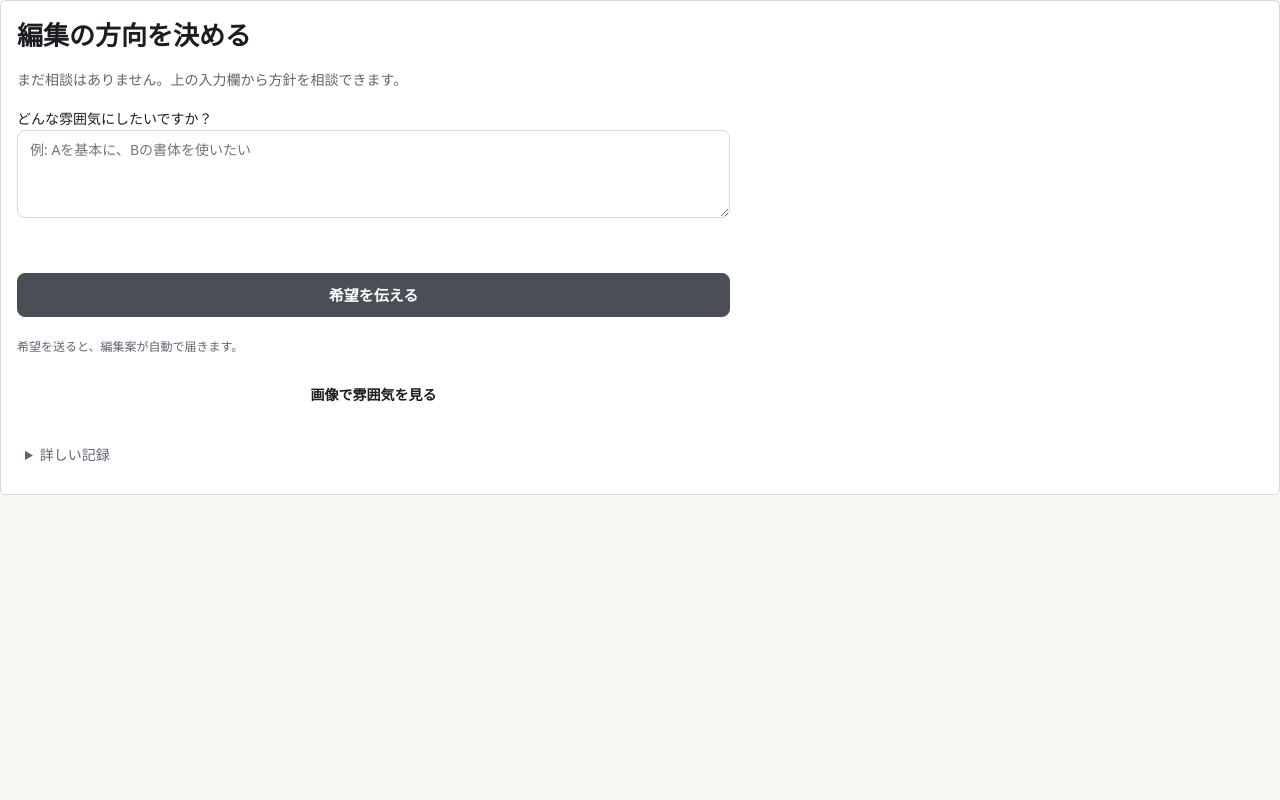
Test case: ConsultationPanel（UX 2.5 slice-1） › consultation-budget-exhaustedは格下げ告知を出し、総称エラーや擬似リトライを出さない
Expected: the text "まだ相談はありません。上の入力欄から方針を相談できます。" is shown, top-left (17, 70), bottom-right (407, 89)
In the text box with test id "consultation-message-input": (373, 174) top-left (17, 130), bottom-right (730, 218), type "冒頭を引きから"
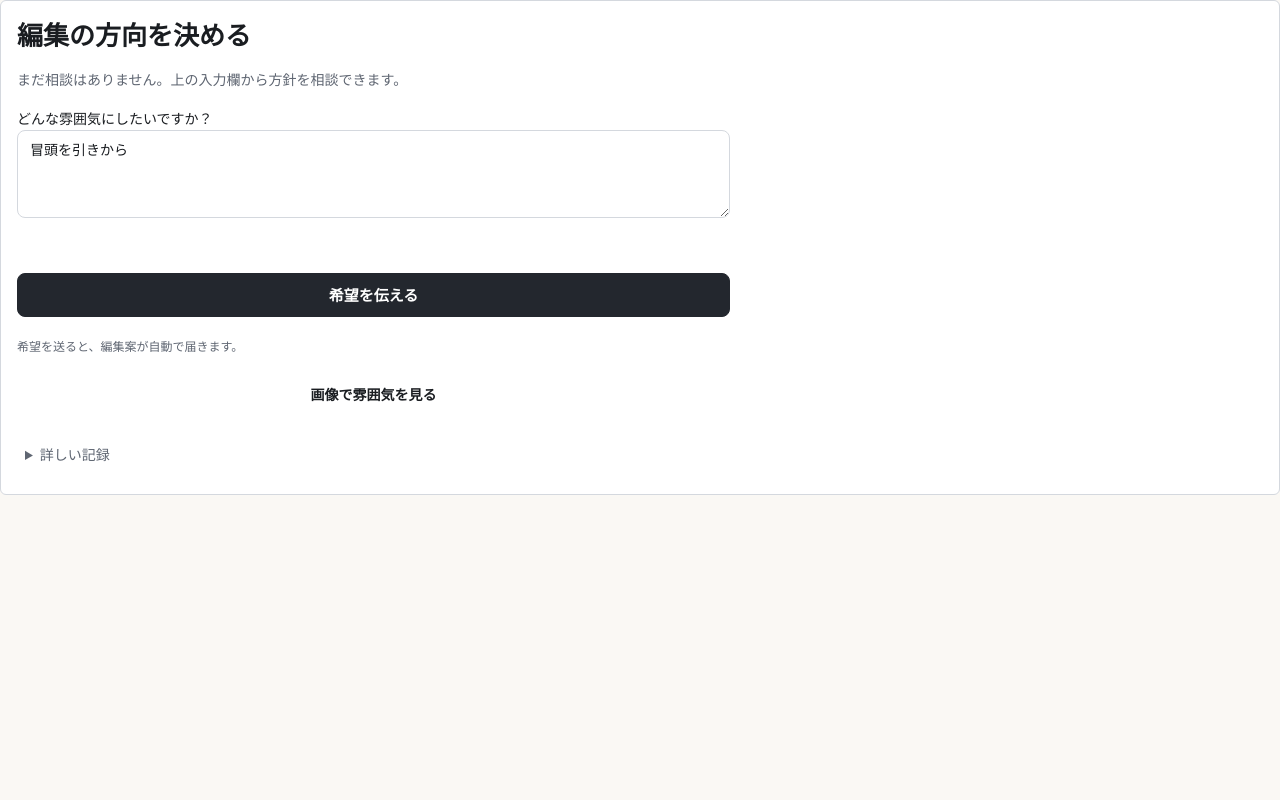
Click the button with test id "consultation-send": (373, 295) top-left (17, 273), bottom-right (730, 317)
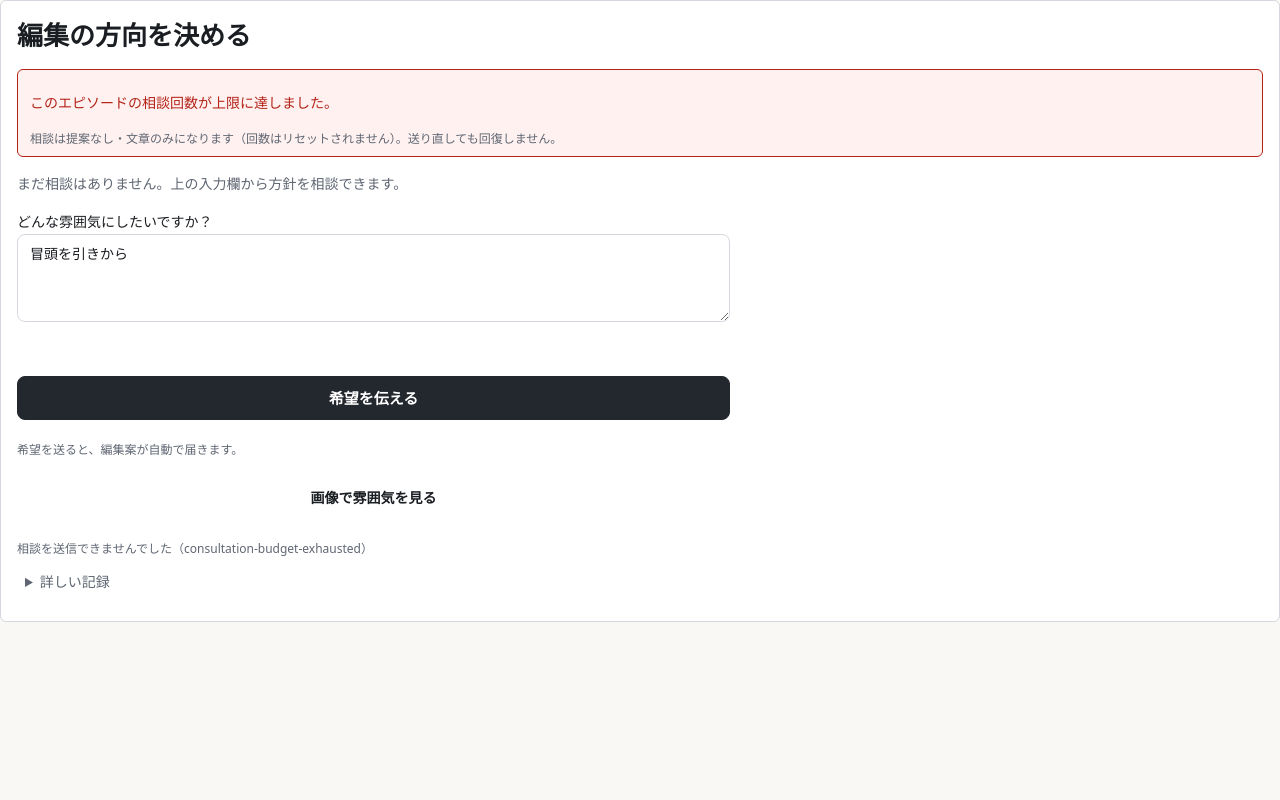
Result: the message "このエピソードの相談回数が上限に達しました。 相談は提案なし・文章のみになります（回数はリセットされません）。送り直しても回復しません。" is shown at top-left (17, 69), bottom-right (1263, 157)
Result: the message with test id "consultation-budget-exhausted" shows "上限に達しました" at top-left (30, 93), bottom-right (338, 112)
Result: the message with test id "consultation-budget-exhausted" shows "文章のみ" at top-left (30, 130), bottom-right (562, 147)
